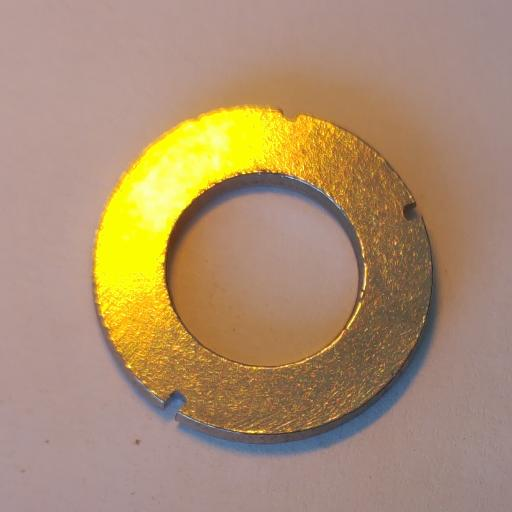burr: (163, 389, 187, 421), (402, 201, 423, 221), (280, 109, 300, 122)
